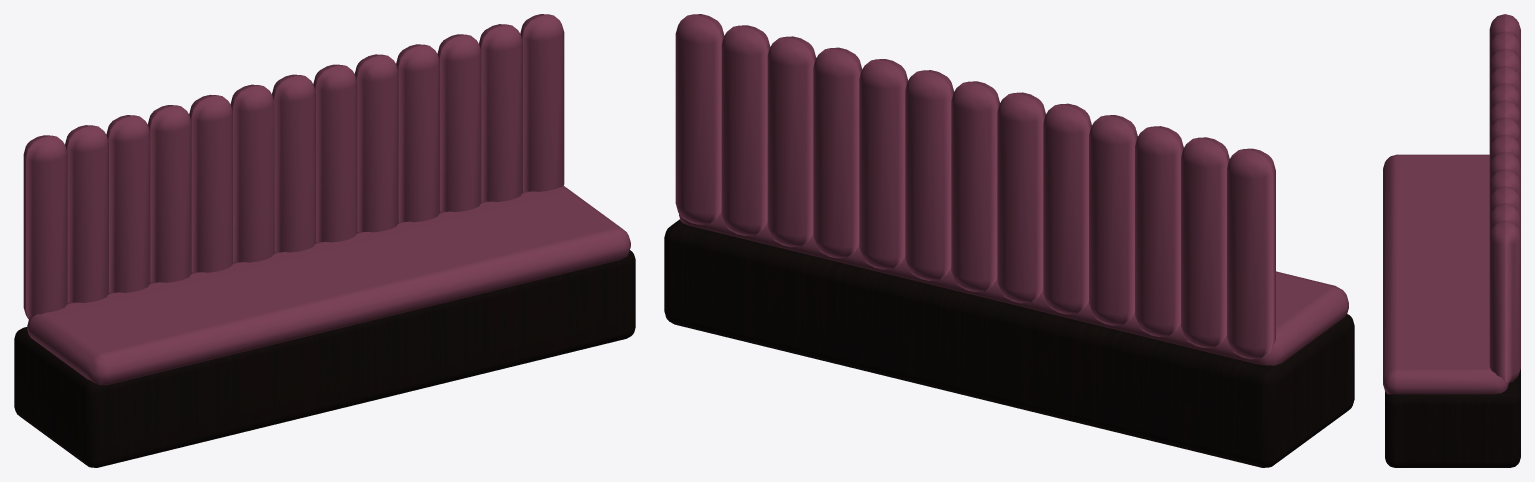
File: speakeasy-booth.glb
3 renders of one model, left to right at view 1: azimuth 30°, elevation 25°; view 2: azimuth 150°, elevation 25°; view 3: azimuth 270°, elevation 25°, orthographic. The views are drawn at different scales.
Parts seen in each view (by area): view 1: speakeasy-booth - Room Review upholstery runtime PBR, speakeasy-booth - Room Review joinery runtime PBR; view 2: speakeasy-booth - Room Review upholstery runtime PBR, speakeasy-booth - Room Review joinery runtime PBR; view 3: speakeasy-booth - Room Review upholstery runtime PBR, speakeasy-booth - Room Review joinery runtime PBR.
Boxes of the visible parts, <box> form: speakeasy-booth - Room Review upholstery runtime PBR: <box>23,14,630,385</box>; speakeasy-booth - Room Review joinery runtime PBR: <box>14,250,635,467</box>; speakeasy-booth - Room Review upholstery runtime PBR: <box>675,14,1348,365</box>; speakeasy-booth - Room Review joinery runtime PBR: <box>664,219,1354,467</box>; speakeasy-booth - Room Review upholstery runtime PBR: <box>1383,14,1520,394</box>; speakeasy-booth - Room Review joinery runtime PBR: <box>1385,369,1520,467</box>.
Size of the model in its own units: 3.1 by 1.5 by 0.79.
2 materials, 1 textured.
